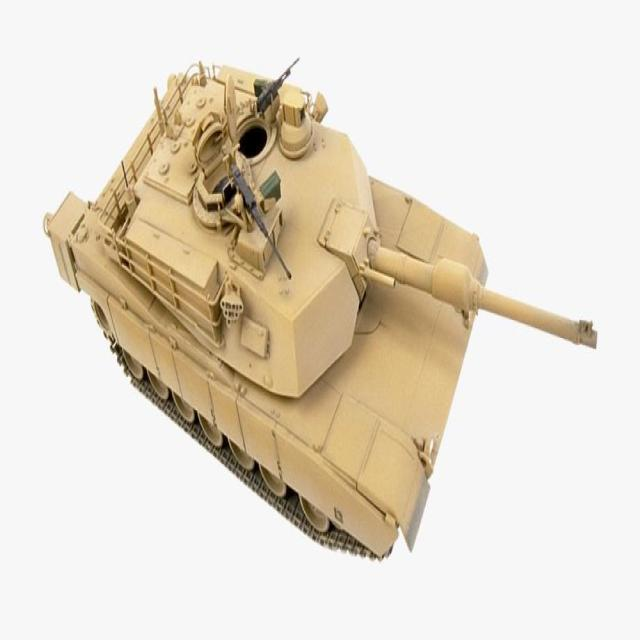Tanks: (32, 48, 499, 550)
